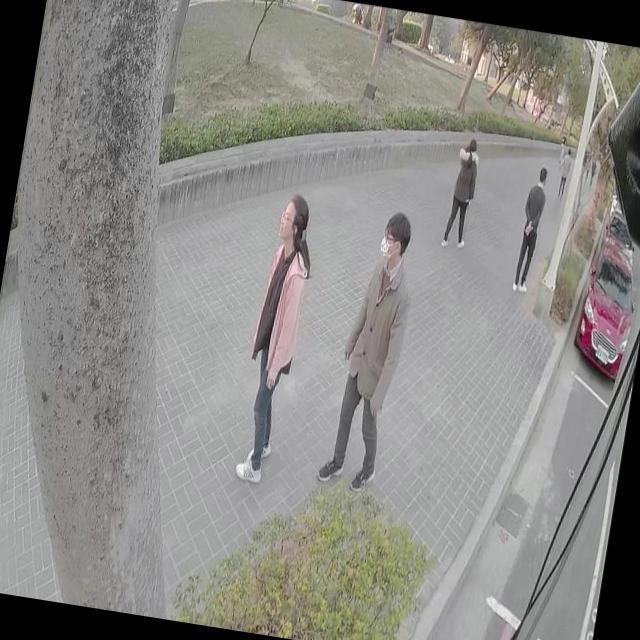person: (316, 204, 422, 492), (232, 191, 320, 485), (508, 165, 548, 296), (439, 135, 482, 250), (554, 142, 575, 201)
